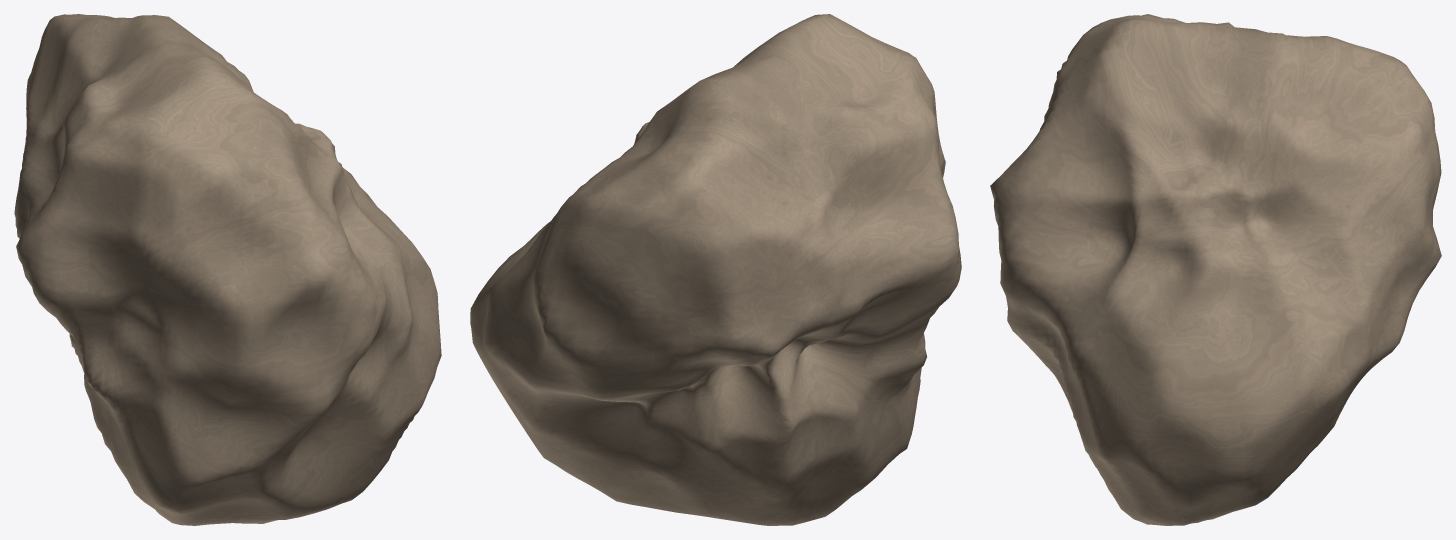
Rendered from boulder8.fbx.
3 renders of one model, left to right at view 1: azimuth 30°, elevation 25°; view 2: azimuth 150°, elevation 25°; view 3: azimuth 270°, elevation 25°, orthographic. The views are drawn at different scales.
Visible parts, largest first — view 1: cube.sphere.32; view 2: cube.sphere.32; view 3: cube.sphere.32.
Part boxes in pixels (box(x1,y1,x2,y2)): cube.sphere.32: box(14, 14, 441, 525); cube.sphere.32: box(470, 14, 961, 525); cube.sphere.32: box(990, 14, 1441, 525).
Size of the model in its own units: 129 by 138 by 129.
